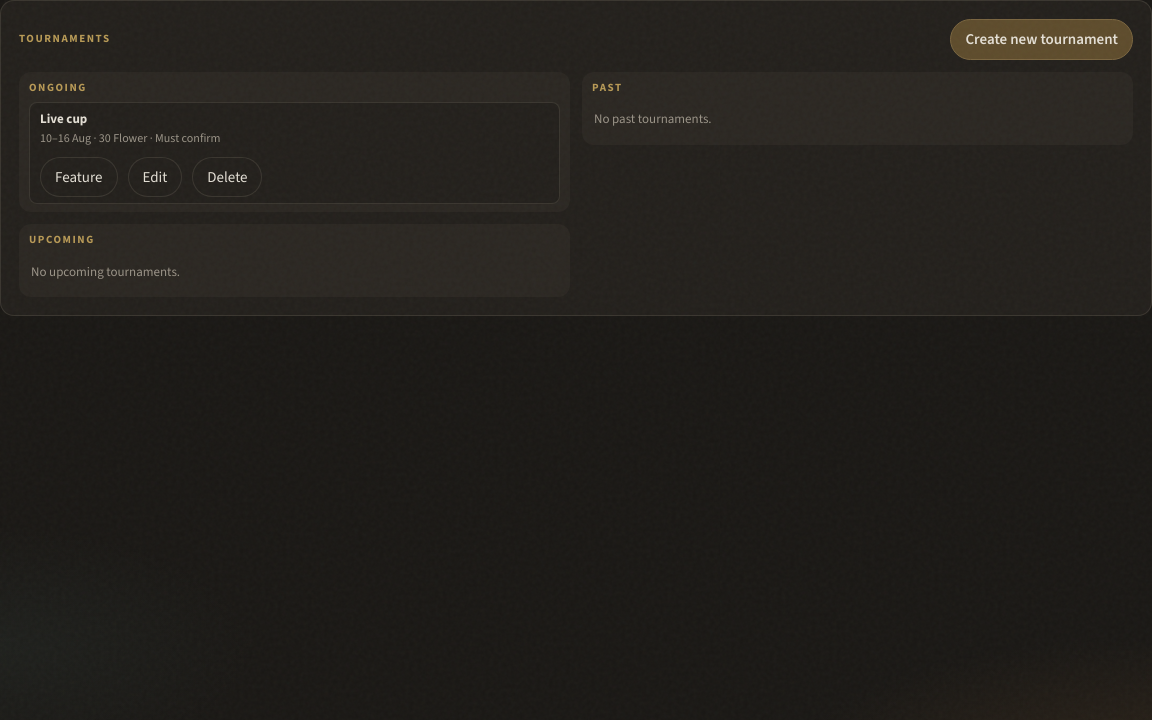
Test: AdminTournaments › asks before deleting a tournament and skips when no is chosen
The width and height of the screenshot is (1152, 720).
Click the button with test id "admin-delete-live". click: click(227, 177)
box: [192,156,262,197]
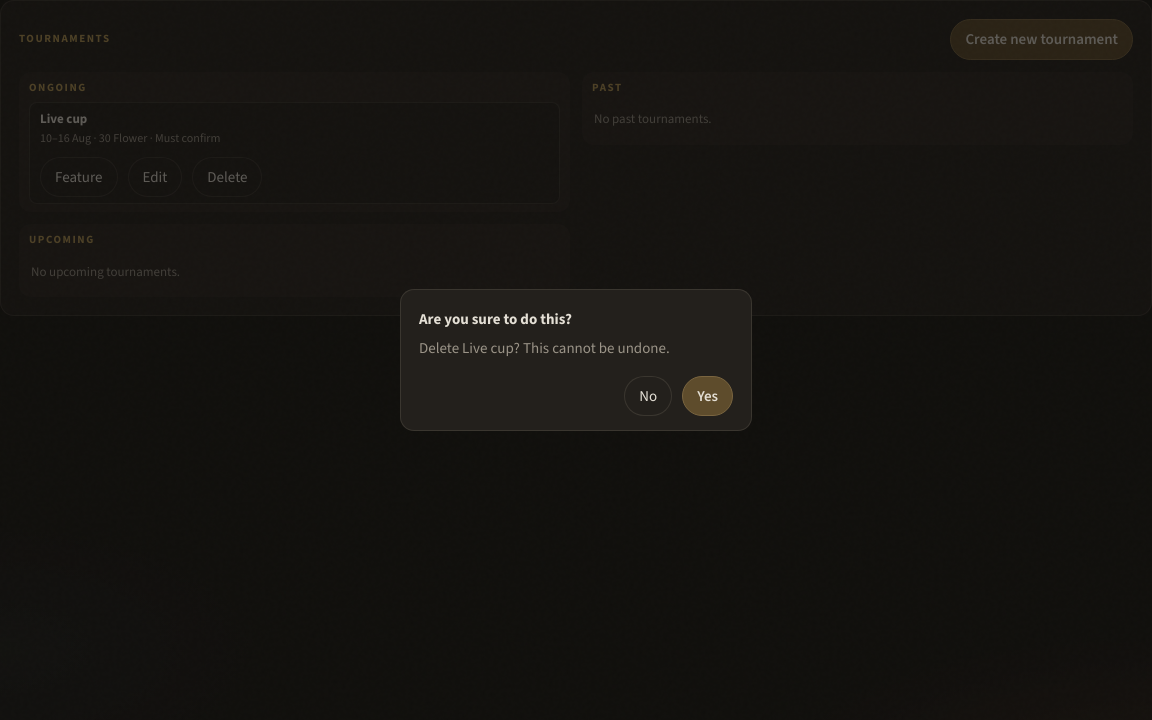
Now the dialog with test id "confirm-dialog" is shown
Now the dialog with test id "confirm-dialog" shows "Are you sure to do this", box [419,309,572,329]
Now the dialog with test id "confirm-dialog" shows "Delete Live cup", box [419,338,670,358]
Click the button with test id "confirm-no". click: click(648, 396)
box: [624,376,672,416]
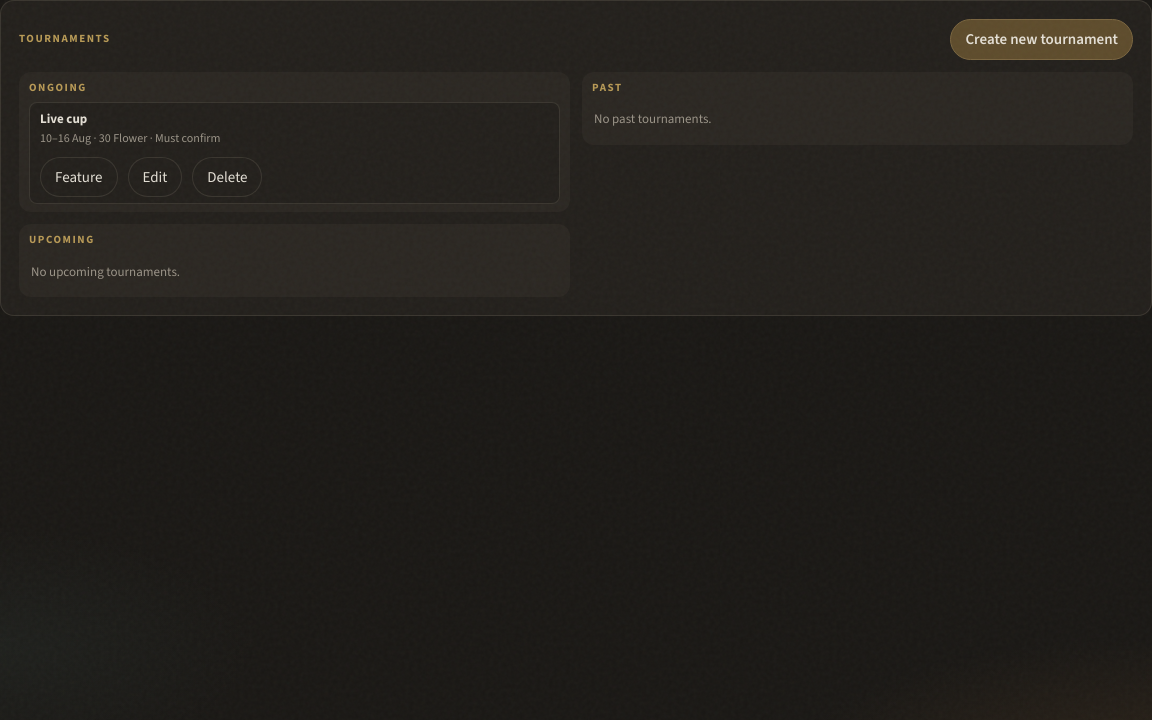
Now the dialog with test id "confirm-dialog" is gone
